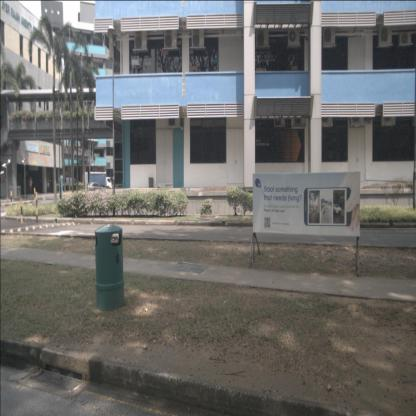cone: (7, 197, 9, 209)
